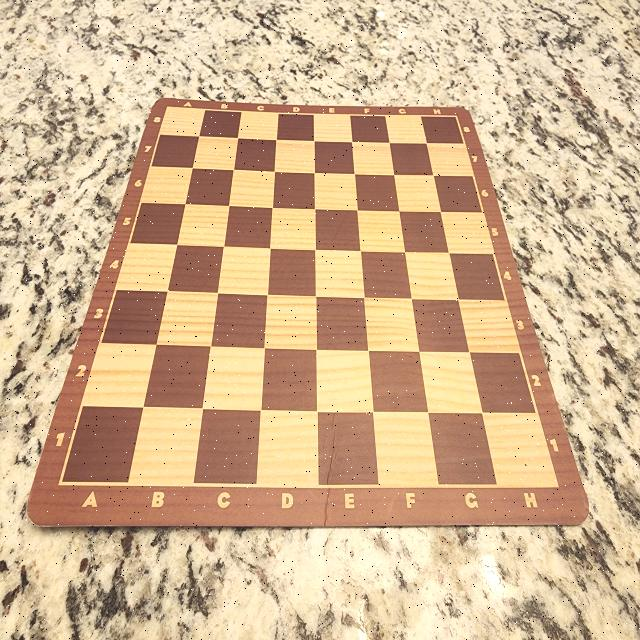Bottom-Left: (71, 408, 134, 484)
Bottom-Right: (486, 415, 558, 488)
Top-Left: (164, 109, 202, 135)
Top-Right: (422, 116, 464, 142)
